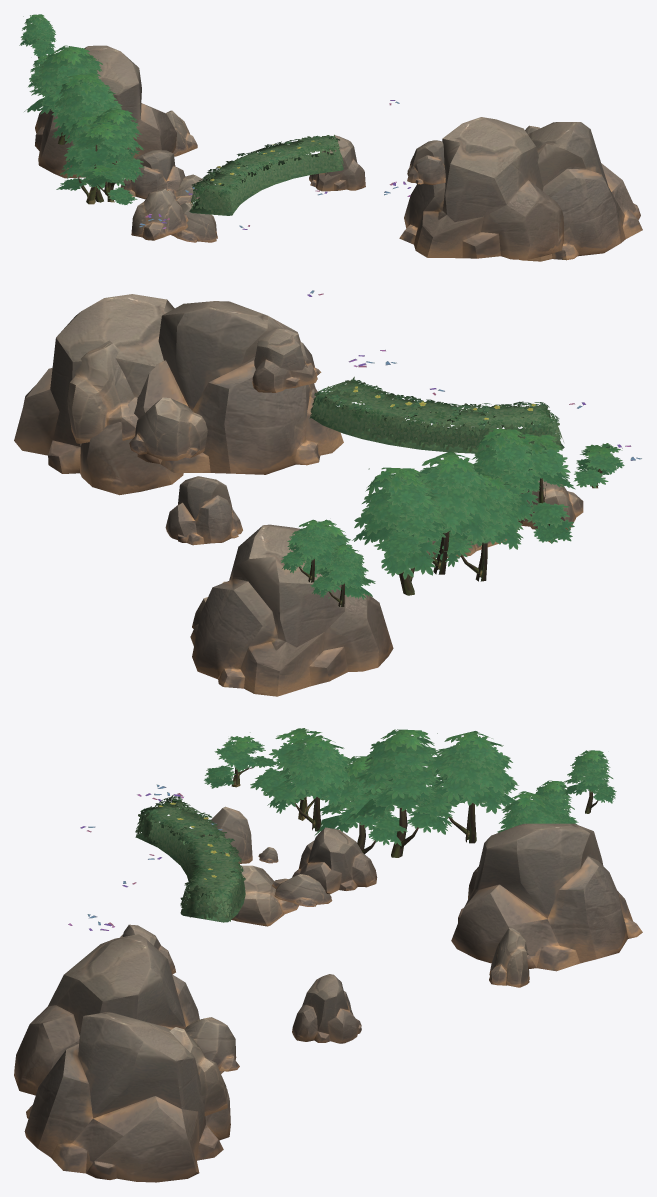
The model's file is pref_sm_4v4pointbake_WSJ_CSD_L03_lv2.fbx.
3 renders of one model, top to bottom at view 1: azimuth 30°, elevation 25°; view 2: azimuth 150°, elevation 25°; view 3: azimuth 270°, elevation 25°, orthographic. The views are drawn at different scales.
Parts seen in each view (by area): view 1: sm_4v4pointbake_WSJ_CSD_L03_b_lv2, sm_4v4pointbake_WSJ_CSD_L03_c_lv2; view 2: sm_4v4pointbake_WSJ_CSD_L03_b_lv2, sm_4v4pointbake_WSJ_CSD_L03_c_lv2; view 3: sm_4v4pointbake_WSJ_CSD_L03_b_lv2, sm_4v4pointbake_WSJ_CSD_L03_c_lv2.
Part boxes in pixels (bbox=[...]): sm_4v4pointbake_WSJ_CSD_L03_b_lv2: bbox=[35, 45, 642, 261]; sm_4v4pointbake_WSJ_CSD_L03_c_lv2: bbox=[19, 14, 344, 215]; sm_4v4pointbake_WSJ_CSD_L03_b_lv2: bbox=[14, 294, 583, 696]; sm_4v4pointbake_WSJ_CSD_L03_c_lv2: bbox=[280, 376, 624, 606]; sm_4v4pointbake_WSJ_CSD_L03_b_lv2: bbox=[14, 806, 642, 1182]; sm_4v4pointbake_WSJ_CSD_L03_c_lv2: bbox=[135, 728, 616, 922].
Size of the model in its own units: 28.12 by 8.98 by 24.94.
